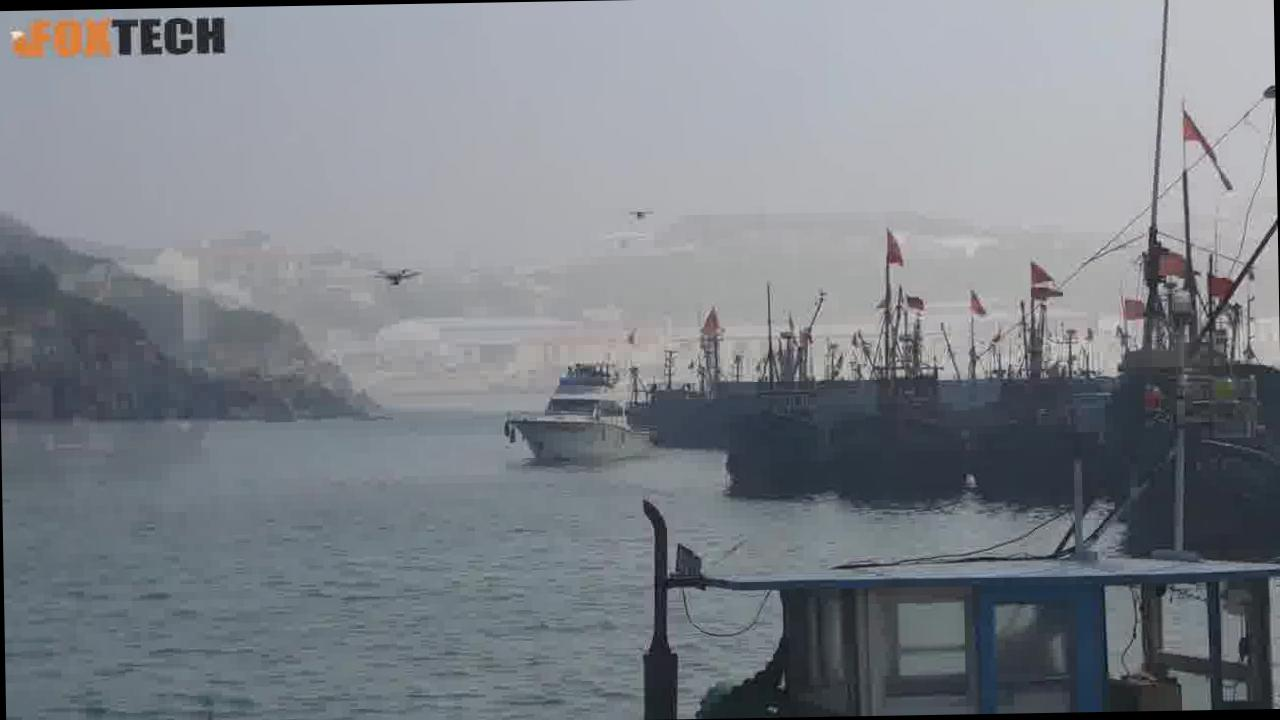drone: (374, 262, 421, 292)
